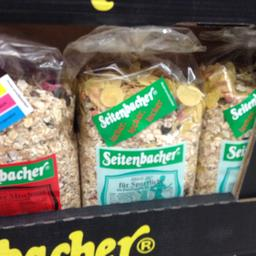cereal: (78, 63, 204, 207), (0, 74, 77, 220), (196, 64, 254, 193)
